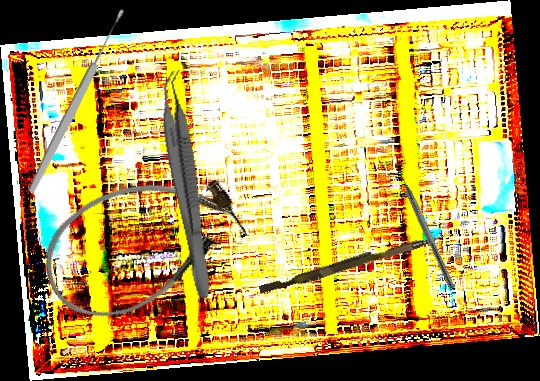Cannula: (26, 148, 258, 339)
Chopper: (392, 161, 464, 290)
Pusher: (258, 226, 447, 299)
Surgical Spoon: (25, 7, 129, 195)
Tissue Forceps: (151, 69, 226, 300)
